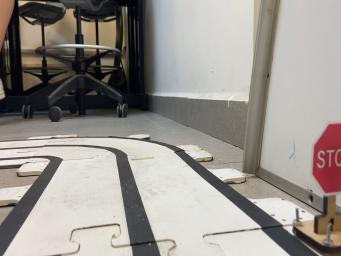stop: (293, 121, 341, 254), (293, 121, 341, 254), (293, 121, 341, 254), (293, 121, 341, 254), (293, 121, 341, 254), (293, 121, 341, 254)
street: (0, 137, 316, 255), (0, 137, 316, 255), (0, 137, 316, 255), (0, 137, 316, 255), (0, 137, 316, 255), (0, 137, 316, 255)
